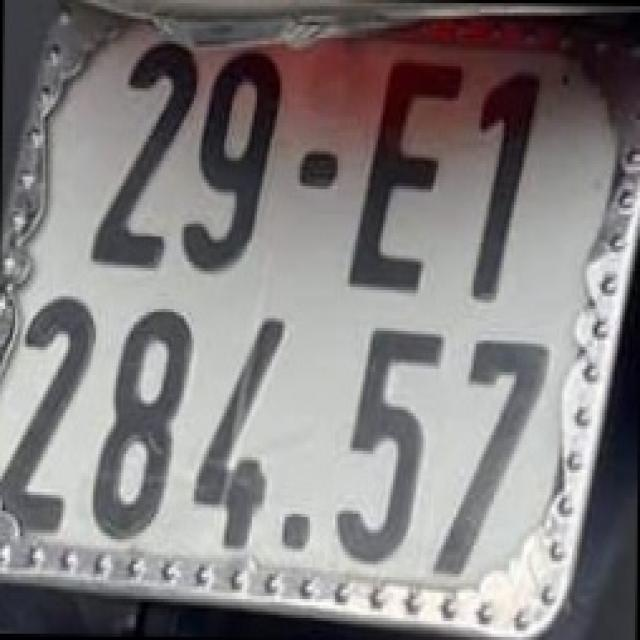1: (464, 63, 546, 303)
2: (81, 32, 194, 271), (3, 290, 93, 533)
4: (192, 306, 287, 552)
5: (332, 318, 443, 568)
7: (434, 331, 550, 580)
8: (90, 296, 192, 542)
9: (179, 38, 287, 274)
E: (348, 48, 458, 296)
